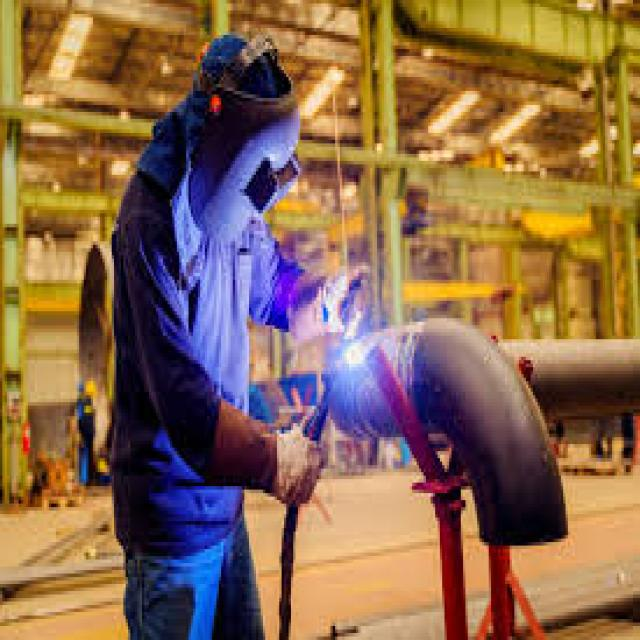welding: (346, 339, 366, 368)
